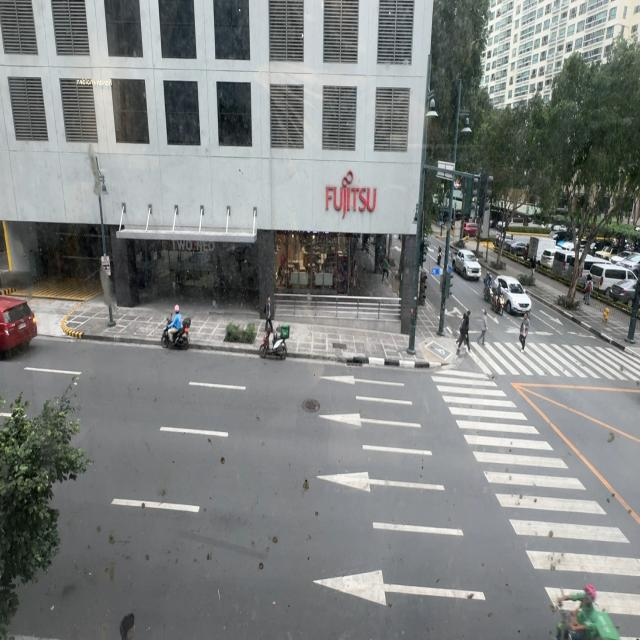crossing: (456, 310, 471, 353), (519, 313, 530, 352), (478, 310, 489, 345)
pedestrain: (583, 281, 589, 305)
